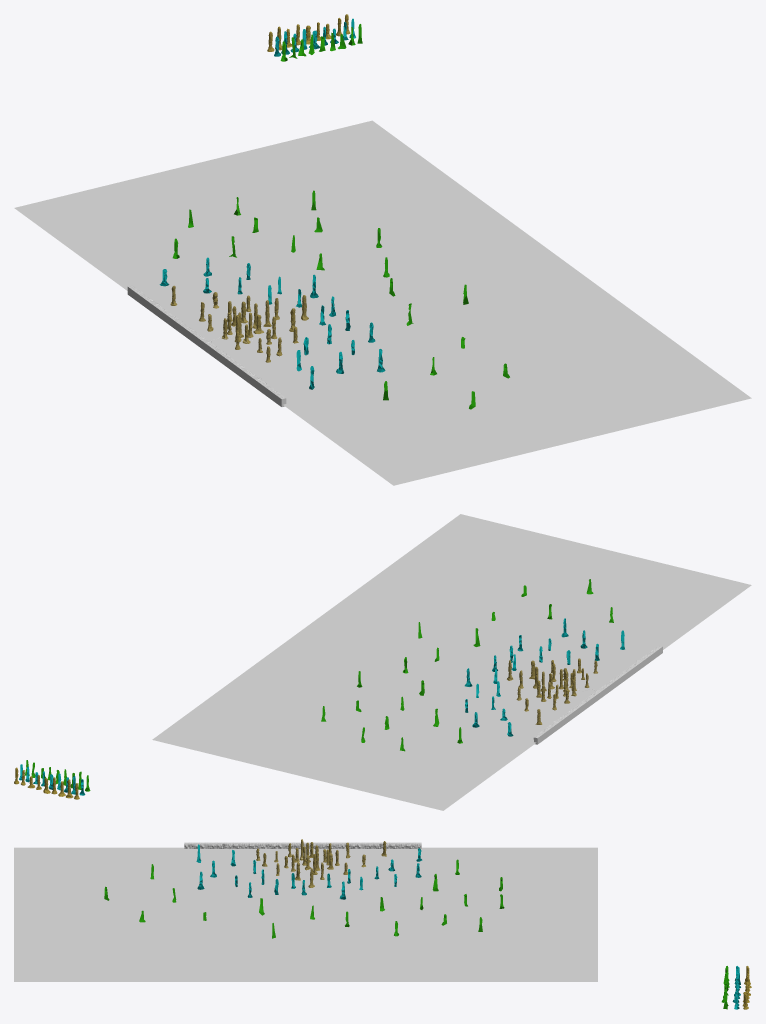
The model's file is FINAL - falaise+chemin+zizi.FBX.
3 renders of one model, top to bottom at view 1: azimuth 30°, elevation 25°; view 2: azimuth 150°, elevation 25°; view 3: azimuth 270°, elevation 25°, orthographic. The views are drawn at different scales.
Parts seen in each view (by area): view 1: Plane001; view 2: Plane001; view 3: Plane001.
Part boxes in pixels (x1=…): Plane001: x1=14, y1=120, x2=751, y2=485; Plane001: x1=152, y1=514, x2=751, y2=810; Plane001: x1=14, y1=847, x2=597, y2=981.
Bounding box in the file's own units: 188379 × 13512 × 361426.
